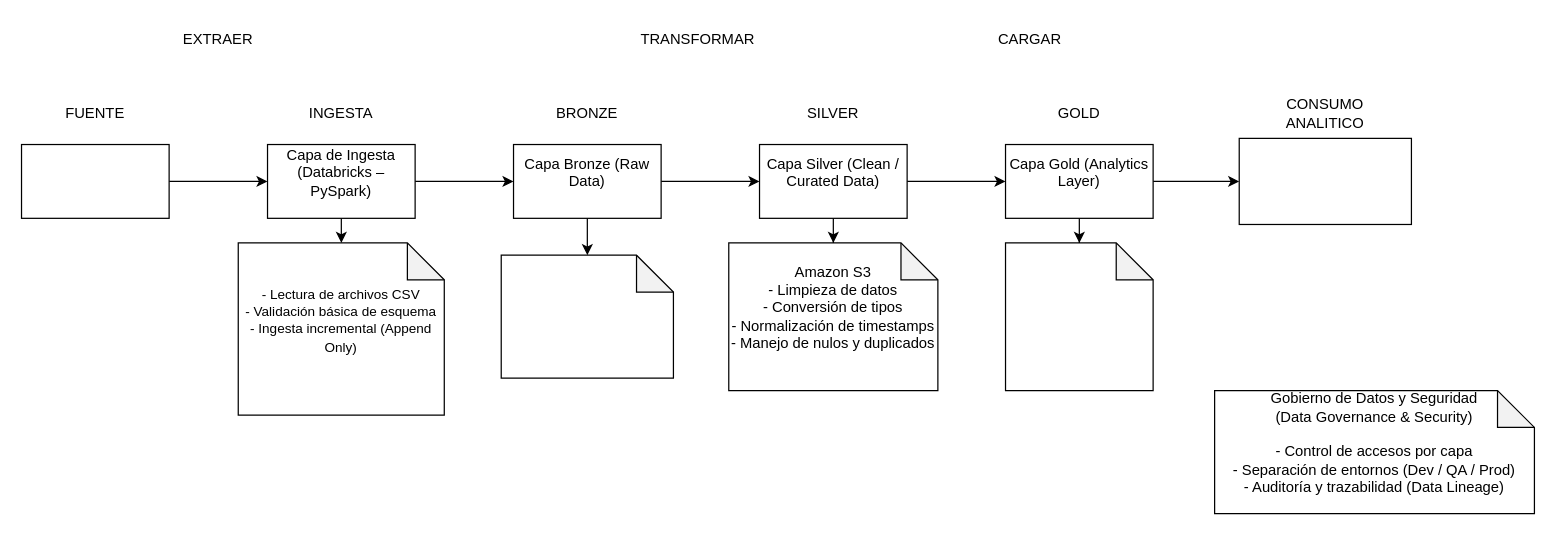
Some shapes in this 1556 by 535 pixel diagram are drawn without their labels. Each missing label, with the box of its shape:
Amazon S3 - Datos agregados - KPIs de negocio: (1004, 242, 1153, 391)
Amazon S3 - Datos crudos - Sin transformaciones - Conservación de históricos: (500, 254, 673, 378)
Consumo Analítico (BI) Power BI / SQL / Dashboards: (1238, 137, 1411, 224)
Fuente de Datos HVFHS - NYC TLC (Archivos CSV): (20, 143, 169, 218)
